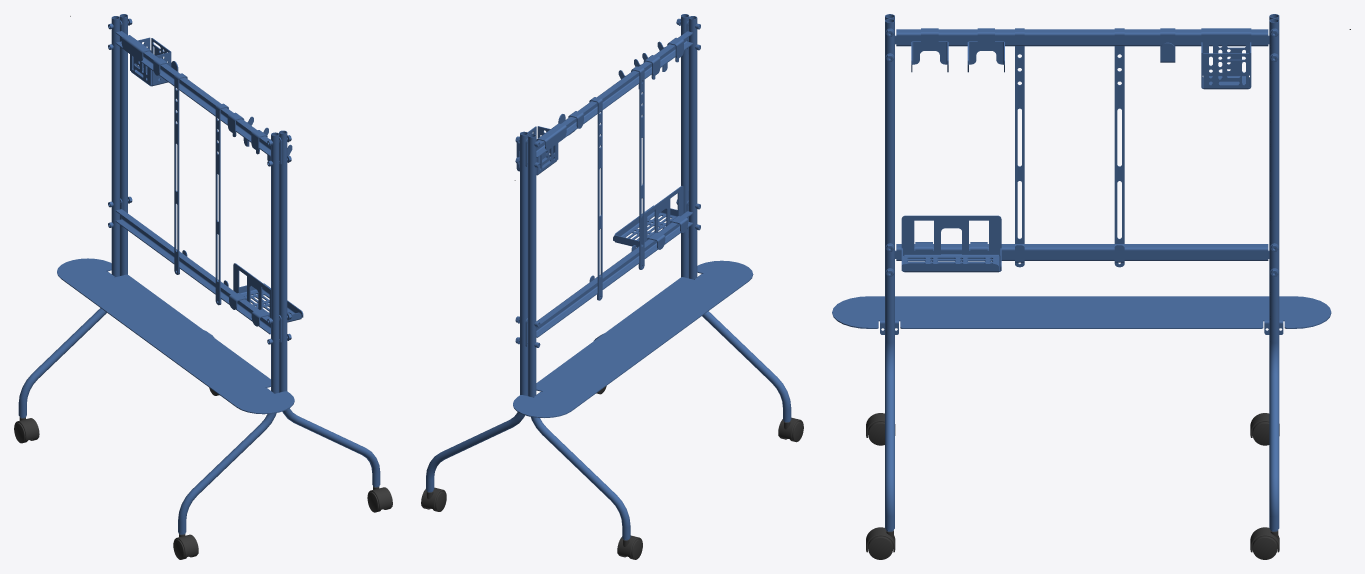
File: paso-01-full.glb
3 renders of one model, left to right at view 1: azimuth 30°, elevation 25°; view 2: azimuth 150°, elevation 25°; view 3: azimuth 270°, elevation 25°, orthographic. The views are drawn at different scales.
Parts seen in each view (by area): view 1: Estante, Cuerpo1_1, Cuerpo1_4, Cuerpo1, Cuerpo1_5, Cuerpo1_2, Cuerpo1_3, Soporte_Play, Control, Cuerpo2_1, Cuerpo2, Soporte_Joystick; view 2: Estante, Cuerpo1_4, Cuerpo1_1, Cuerpo1_3, Cuerpo1_5, Soporte_Play, Cuerpo1_2, Cuerpo1, Cuerpo2_1, Cuerpo2, Control, Soporte_Joystick; view 3: Estante, Cuerpo1_3, Cuerpo1, Cuerpo1_5, Cuerpo1_2, Soporte_Play, Control, Cuerpo2_1, Soporte_Joystick, Cuerpo2.
Part boxes in pixels (bbox=[...]): Estante: bbox=[57, 258, 294, 414]; Cuerpo1_1: bbox=[178, 132, 279, 533]; Cuerpo1_4: bbox=[18, 16, 119, 416]; Cuerpo1: bbox=[279, 130, 380, 486]; Cuerpo1_5: bbox=[115, 198, 281, 343]; Cuerpo1_2: bbox=[115, 20, 281, 165]; Cuerpo1_3: bbox=[119, 14, 214, 337]; Soporte_Play: bbox=[229, 263, 303, 326]; Control: bbox=[121, 35, 171, 86]; Cuerpo2_1: bbox=[174, 73, 187, 274]; Cuerpo2: bbox=[215, 103, 228, 305]; Soporte_Joystick: bbox=[227, 112, 292, 161]; Estante: bbox=[513, 260, 753, 417]; Cuerpo1_4: bbox=[528, 133, 630, 538]; Cuerpo1_1: bbox=[688, 16, 791, 421]; Cuerpo1_3: bbox=[426, 131, 528, 490]; Cuerpo1_5: bbox=[525, 200, 693, 347]; Soporte_Play: bbox=[613, 186, 688, 249]; Cuerpo1_2: bbox=[525, 20, 693, 167]; Cuerpo1: bbox=[594, 14, 689, 340]; Cuerpo2_1: bbox=[589, 97, 602, 300]; Cuerpo2: bbox=[631, 66, 644, 269]; Control: bbox=[516, 123, 566, 175]; Soporte_Joystick: bbox=[618, 37, 683, 88]; Estante: bbox=[832, 296, 1331, 334]; Cuerpo1_3: bbox=[1269, 18, 1279, 530]; Cuerpo1: bbox=[885, 18, 894, 530]; Cuerpo1_5: bbox=[895, 244, 1269, 260]; Cuerpo1_2: bbox=[895, 29, 1269, 46]; Soporte_Play: bbox=[901, 215, 1001, 272]; Control: bbox=[1201, 28, 1251, 89]; Cuerpo2_1: bbox=[1114, 28, 1124, 264]; Soporte_Joystick: bbox=[911, 28, 1004, 72]; Cuerpo2: bbox=[1015, 28, 1024, 264].
Bounding box in the file's own units: 0.5894 × 1.06 × 1.04.
